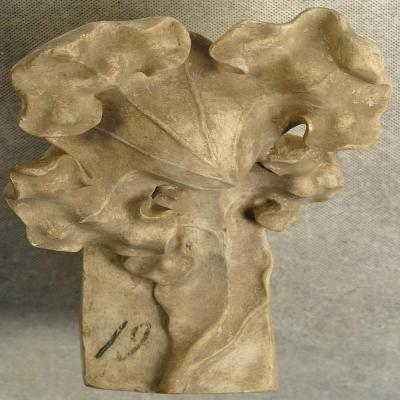sculpture: (3, 8, 393, 396)
